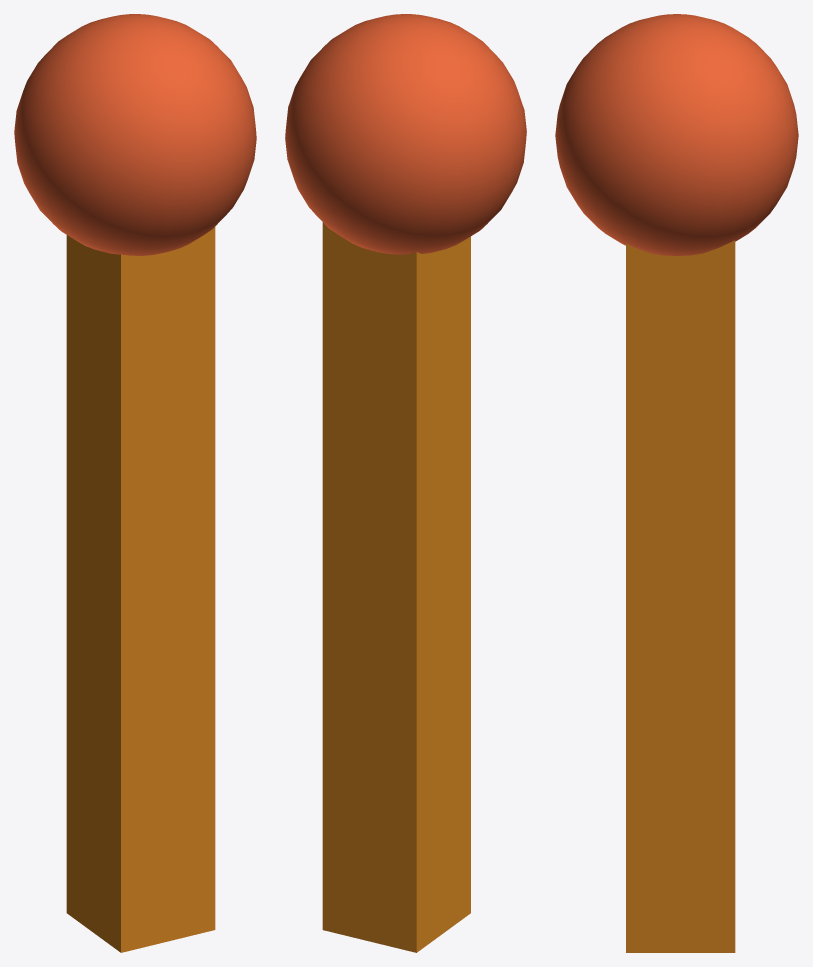
The model's file is ono.glb.
3 renders of one model, left to right at view 1: azimuth 30°, elevation 25°; view 2: azimuth 150°, elevation 25°; view 3: azimuth 270°, elevation 25°, orthographic.
Visible parts, largest first — view 1: 立方体; view 2: 立方体; view 3: 立方体.
Boxes of the visible parts, x1=… form: 立方体: x1=14, y1=14, x2=256, y2=952; 立方体: x1=285, y1=14, x2=526, y2=952; 立方体: x1=555, y1=14, x2=798, y2=952.
Size of the model in its own units: 1.07 by 4.38 by 1.07.
